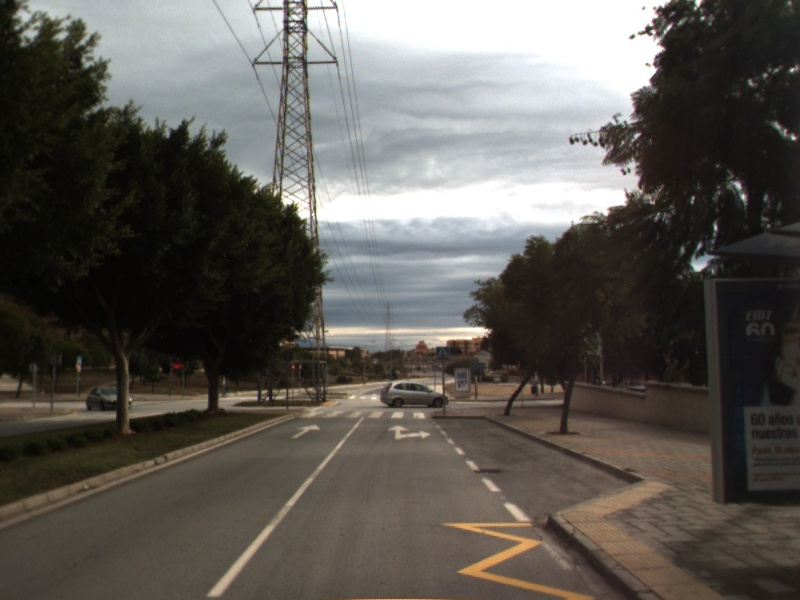STRAIGHT: (288, 422, 323, 440)
STRAIGHT_RIGHT: (385, 423, 433, 442)
